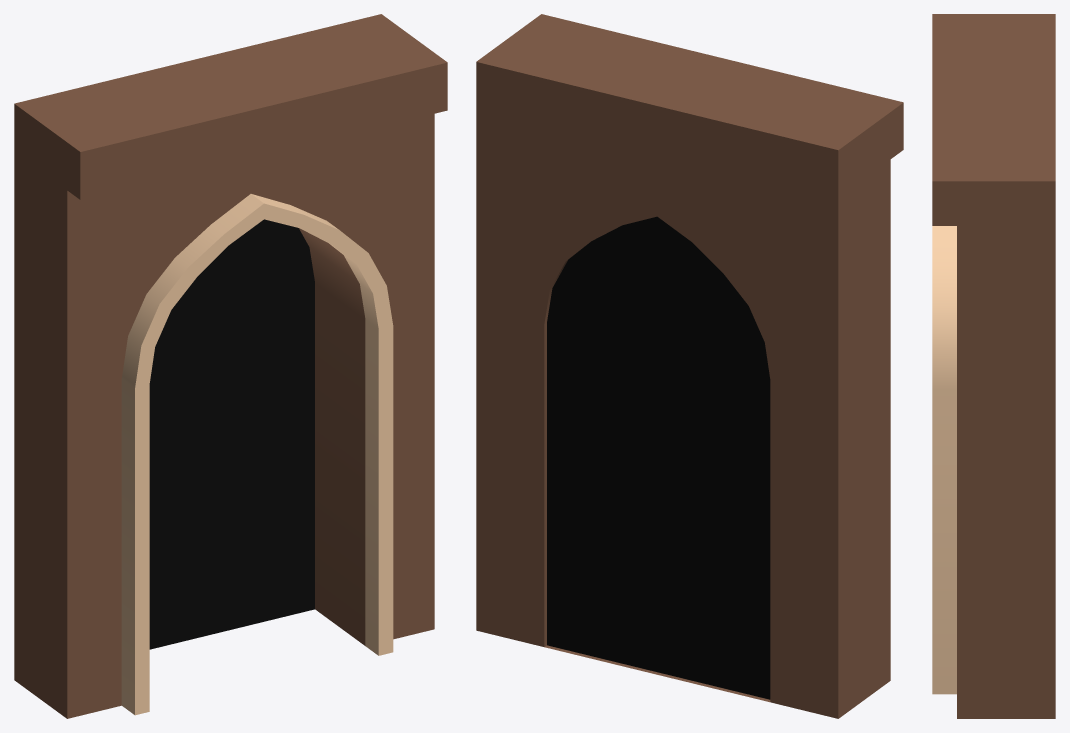
The model's file is Doorway_Small.fbx.
3 renders of one model, left to right at view 1: azimuth 30°, elevation 25°; view 2: azimuth 150°, elevation 25°; view 3: azimuth 270°, elevation 25°, orthographic. The views are drawn at different scales.
Visible parts, largest first — view 1: Doorway_Small.001; view 2: Doorway_Small.001; view 3: Doorway_Small.001.
Part boxes in pixels (x1=…): Doorway_Small.001: x1=14, y1=14, x2=447, y2=718; Doorway_Small.001: x1=476, y1=14, x2=903, y2=718; Doorway_Small.001: x1=932, y1=14, x2=1055, y2=718.
Size of the model in its own units: 4 by 6 by 1.25.
